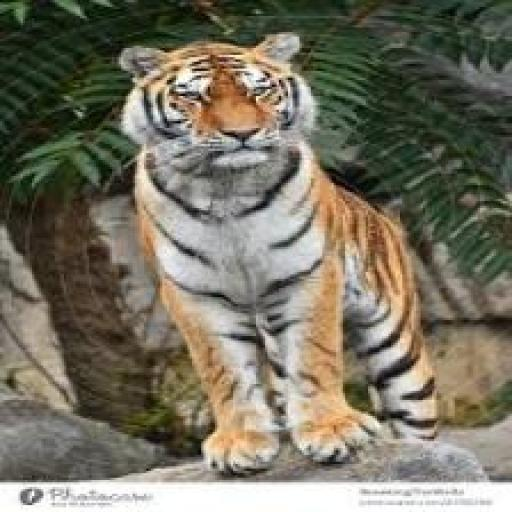Tiger: (108, 34, 465, 476)
